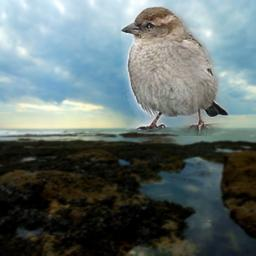Sparrow: (121, 6, 229, 136)
